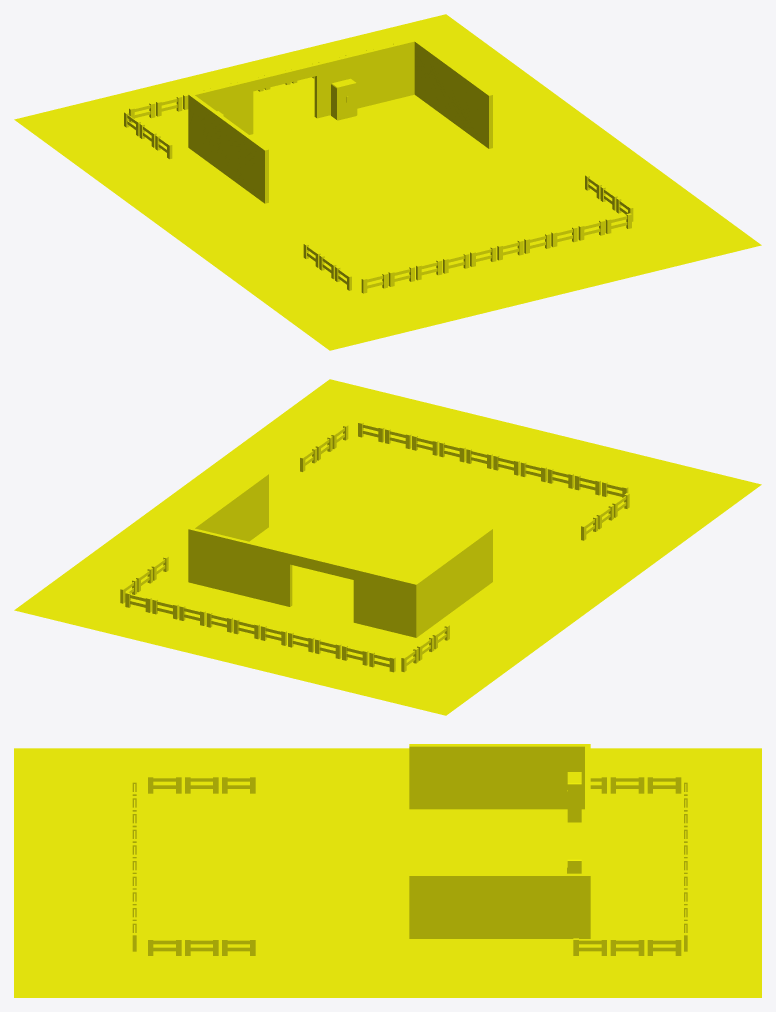
File: Map.gltf
3 renders of one model, top to bottom at view 1: azimuth 30°, elevation 25°; view 2: azimuth 150°, elevation 25°; view 3: azimuth 270°, elevation 25°, orthographic. The views are drawn at different scales.
Parts seen in each view (by area): view 1: Map; view 2: Map; view 3: Map.
Part boxes in pixels (x1=…): Map: x1=14, y1=14, x2=761, y2=350; Map: x1=14, y1=379, x2=761, y2=715; Map: x1=14, y1=744, x2=761, y2=997.
Size of the model in its own units: 31.85 by 3.75 by 40.33.
Materials: 1 (1 with a texture image).
